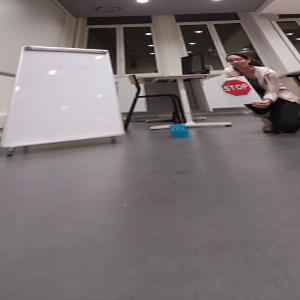stop: (222, 80, 251, 97)
